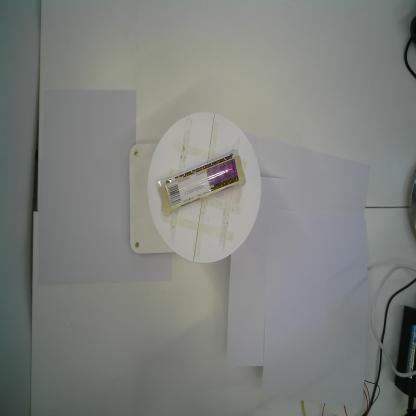Chocolate: (157, 150, 246, 216)
